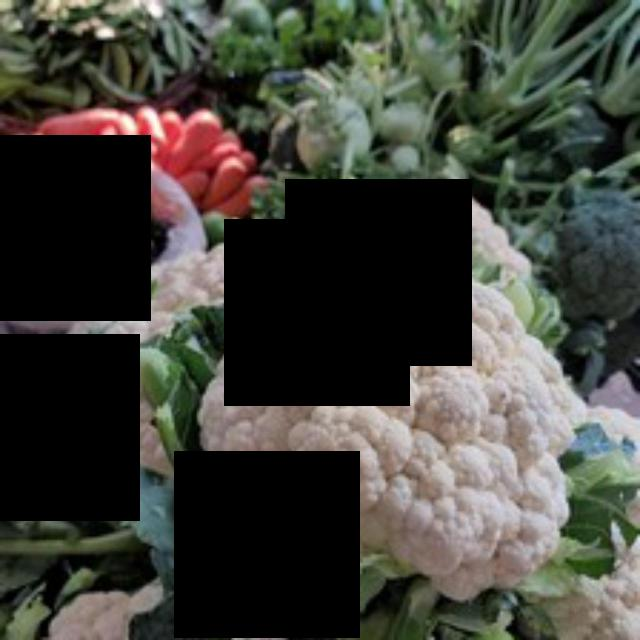cauliflower: (188, 248, 592, 610)
